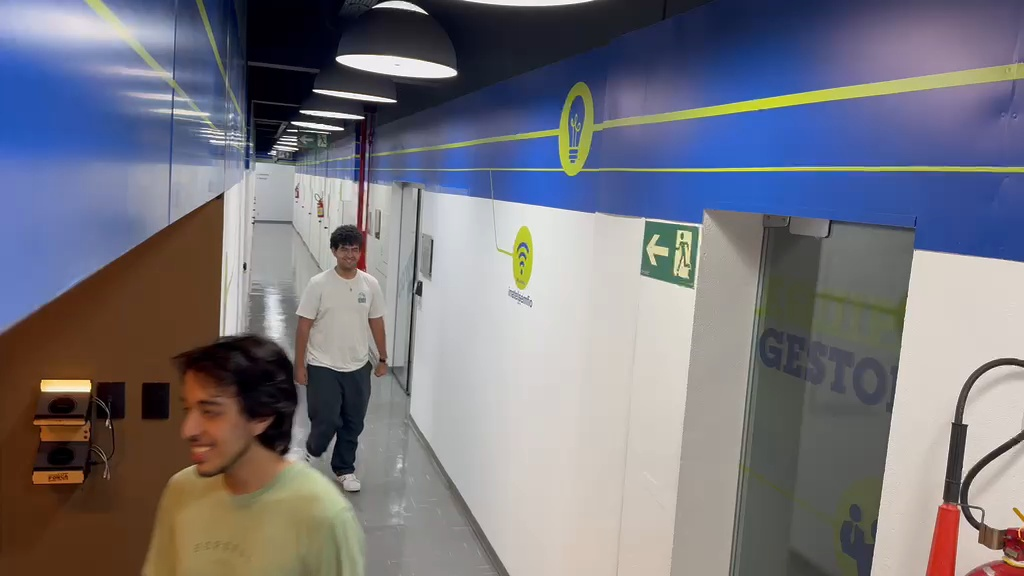person: (138, 335, 368, 572), (293, 225, 390, 496)
